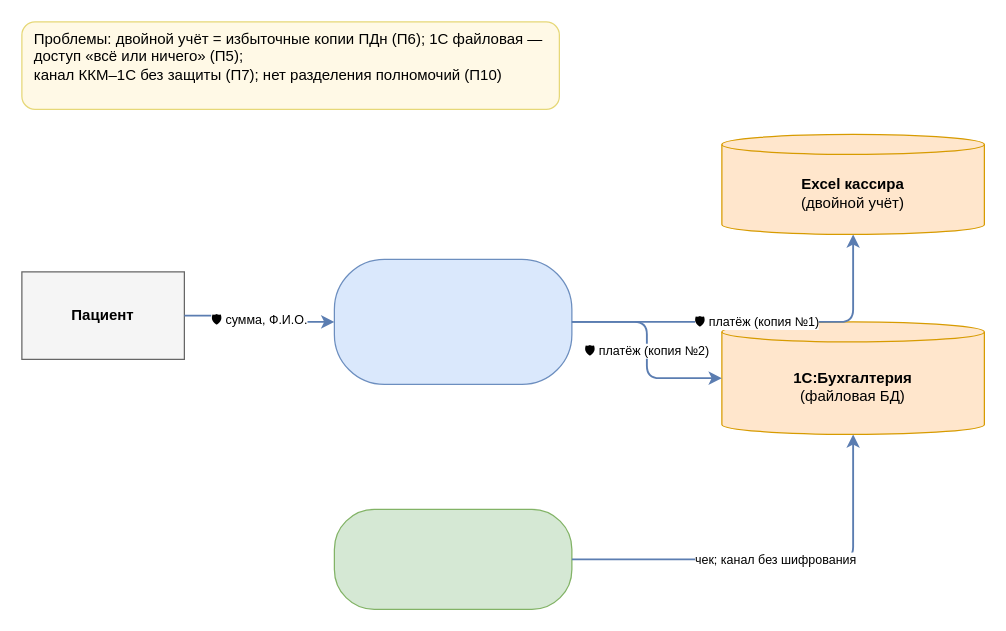
Some shapes in this 1006 by 631 pixel diagram are drawn without their labels. The shapes that lost their labels are listed below. From the top down, each one's box as (x1, y1, x2, y2) in pixels, then its label:
(333, 258, 572, 384): 3. Оплата на кассе (кассир, вручную)
(333, 508, 572, 609): ККМ ↔ 1С (OLE, TCP)
